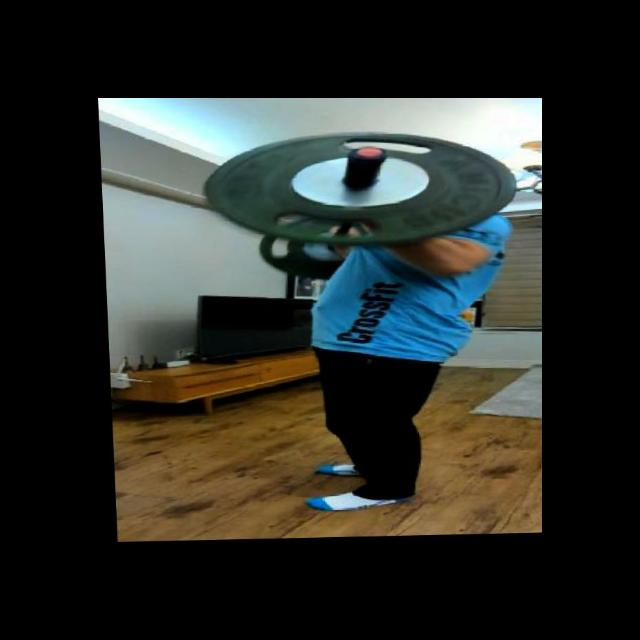barbell: (197, 123, 523, 249)
